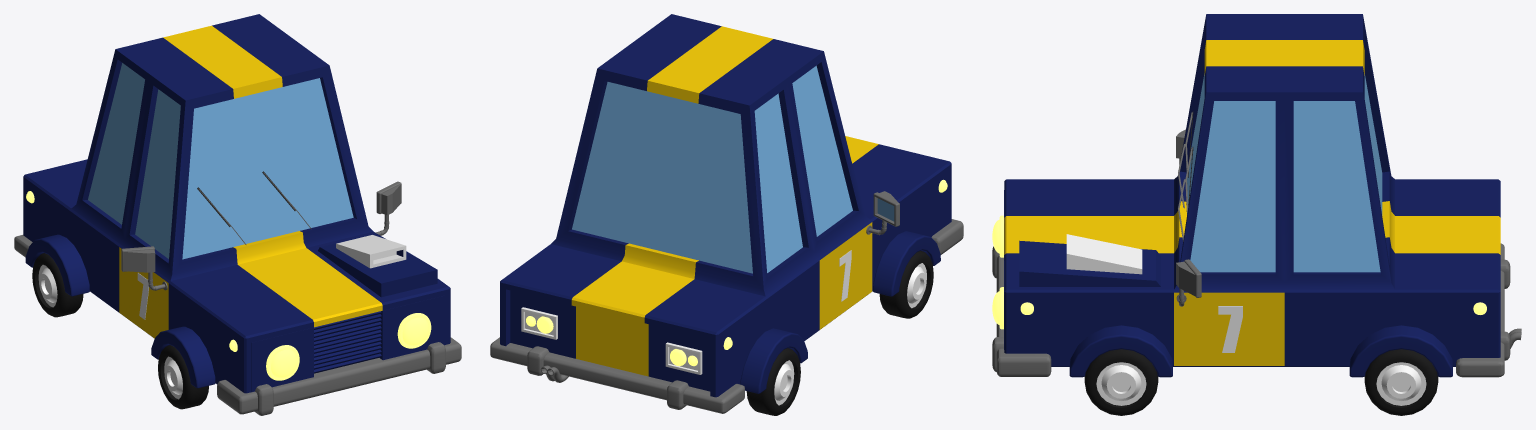
Rendered from carro_cartoon.glb.
3 views of the same model, side by side, from view 1: azimuth 30°, elevation 25°; view 2: azimuth 150°, elevation 25°; view 3: azimuth 270°, elevation 25° (orthographic). The views are drawn at different scales.
Parts seen in each view (by area): view 1: Object_3, Object_5, Object_4, Object_6, Object_8, Object_9, Object_12, Object_7, Object_10; view 2: Object_3, Object_5, Object_4, Object_6, Object_9, Object_7, Object_10, Object_12; view 3: Object_3, Object_5, Object_4, Object_6, Object_9, Object_8, Object_10, Object_7, Object_12.
Boxes of the visible parts, x1,y1,x2,y2 form: Object_3: (23,14,450,393); Object_5: (88,63,353,259); Object_4: (119,25,382,338); Object_6: (14,172,461,415); Object_8: (314,233,437,373); Object_9: (32,253,208,409); Object_12: (26,191,431,380); Object_7: (137,235,406,319); Object_10: (38,264,182,399); Object_3: (500,14,951,397); Object_5: (572,65,894,273); Object_4: (571,26,878,376); Object_6: (490,191,963,413); Object_9: (746,251,933,415); Object_7: (521,250,851,374); Object_10: (774,263,926,405); Object_12: (526,179,947,366); Object_3: (1004,14,1500,377); Object_5: (1187,73,1382,272); Object_4: (1004,40,1500,365); Object_6: (992,112,1521,377); Object_9: (1084,349,1438,415); Object_8: (1019,240,1160,286); Object_10: (1096,362,1426,405); Object_7: (1066,234,1242,352); Object_12: (992,215,1486,329).
Size of what is drawn, in the model's own units: 27.64 by 25.28 by 40.7.
